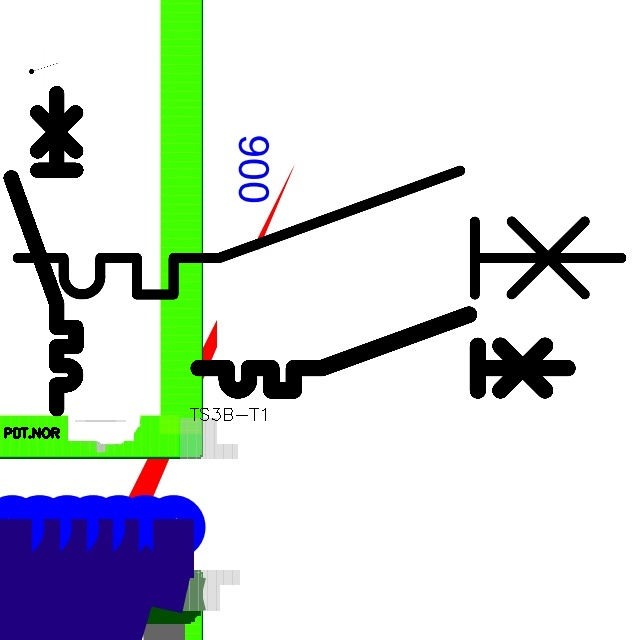interruptor_termomagnetico: (2, 155, 637, 310), (189, 305, 577, 400), (3, 85, 84, 417)
